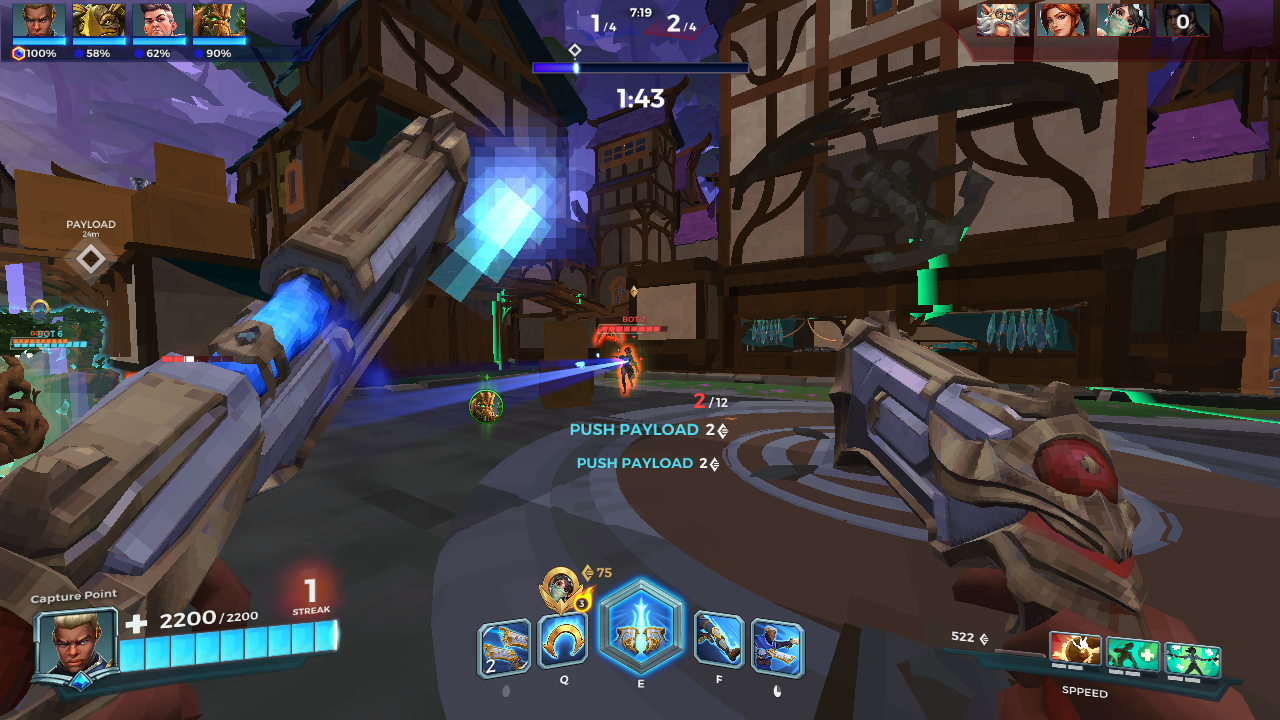model: (615, 342, 642, 402)
